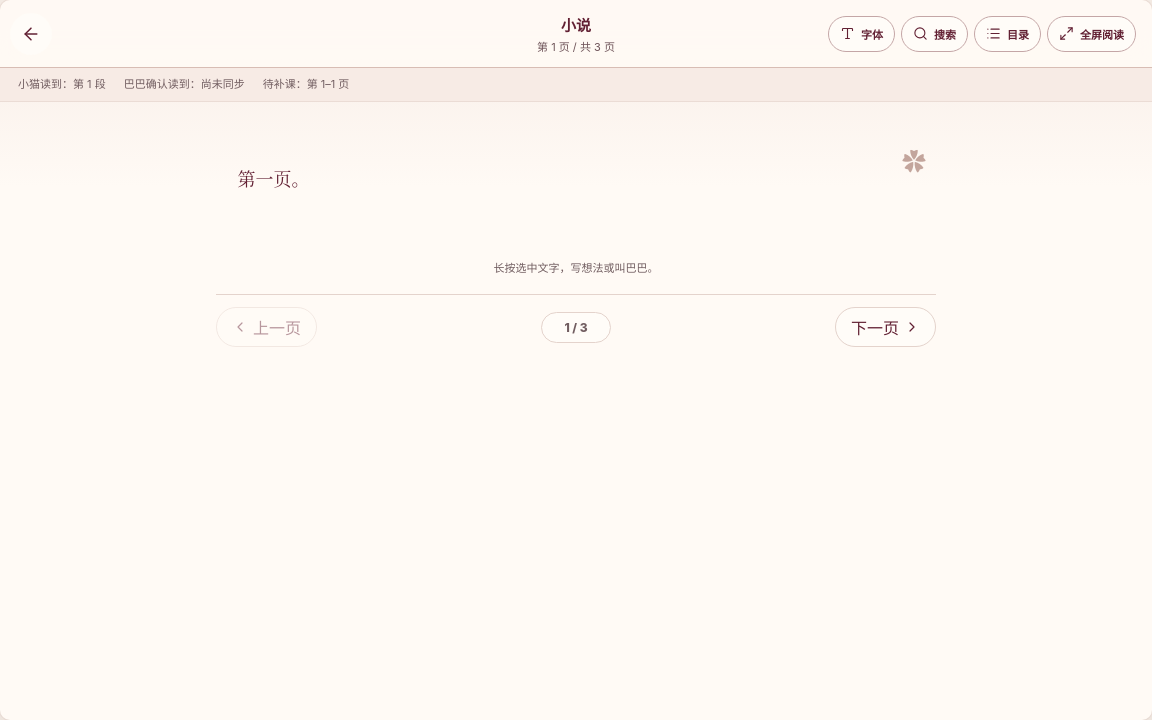
NovelReader › validates page jump input without changing position
Click the button "目录".
click(1008, 34)  # box [974,16,1041,52]
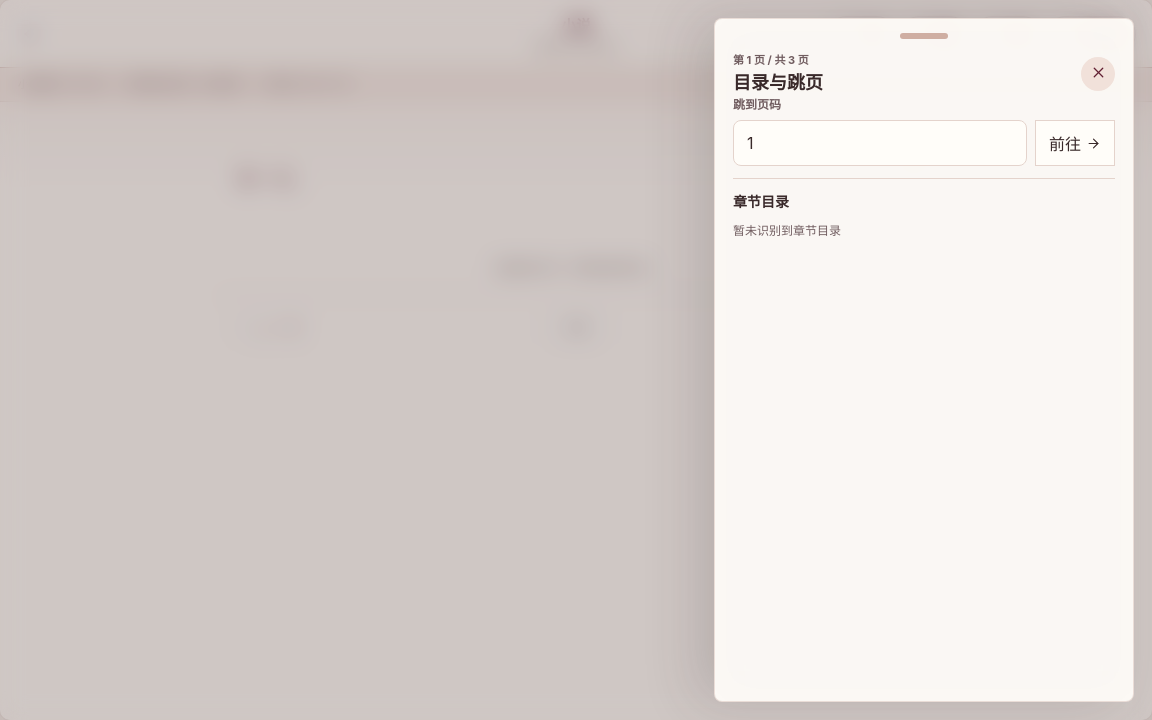
Replace the text in the field labelled "跳到页码" with "8" at point(880, 143), box [733,120,1027,166]
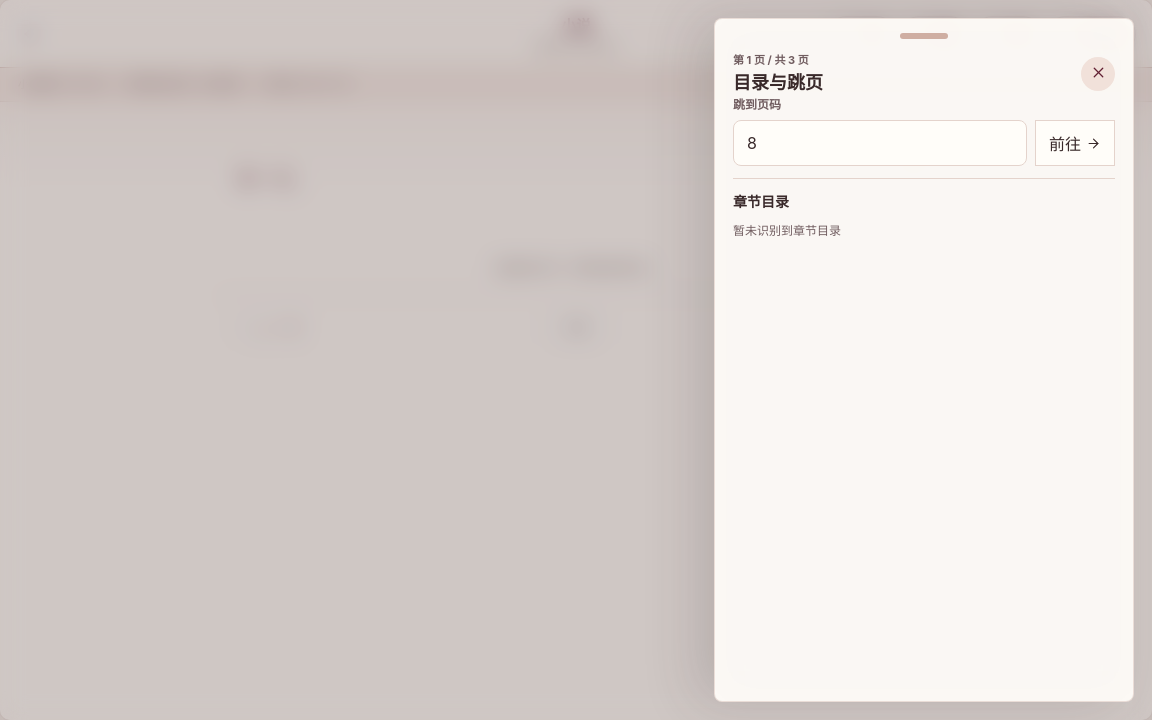
Click the button "前往".
click(1075, 143)  # box [1035,120,1115,166]
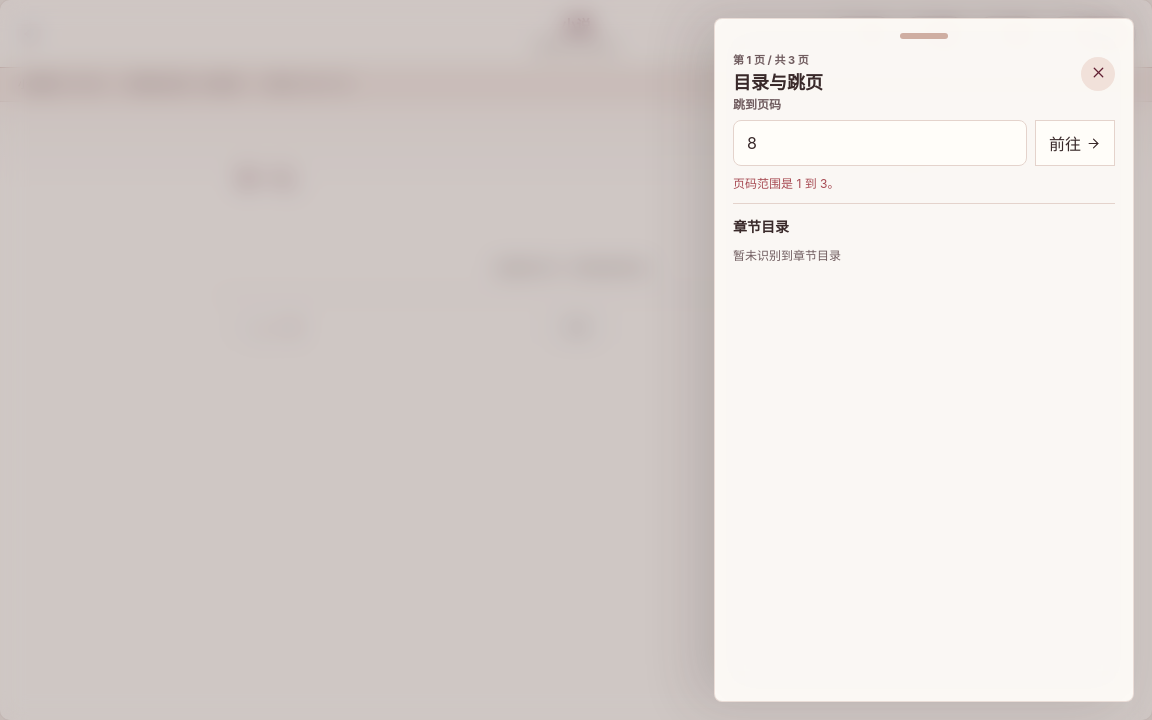
Result: the message reads "页码范围是 1 到 3。" at [733,176,839,191]
